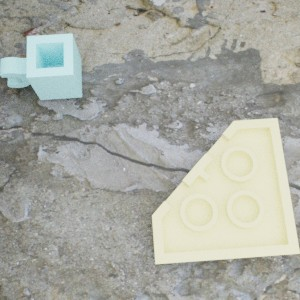lego: (151, 118, 300, 264), (0, 33, 82, 100)
